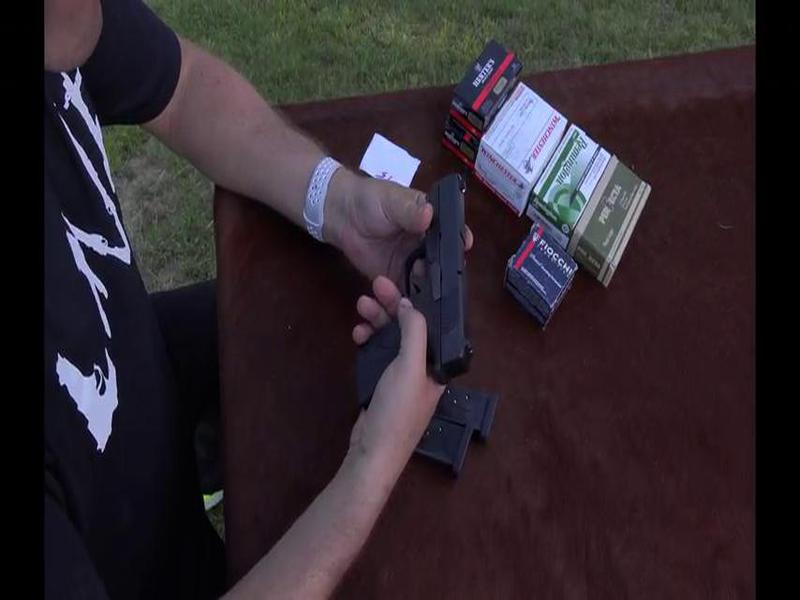Pistola: (339, 166, 485, 419)
